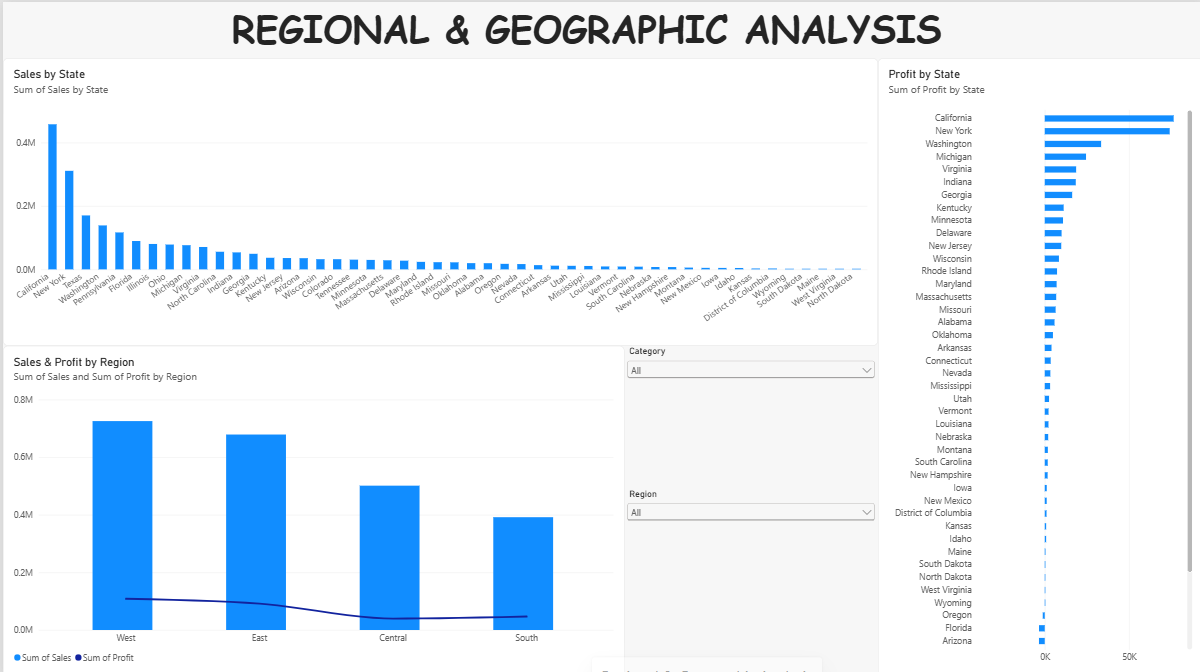

The dashboard page shown, as its layout file describes it:
{"tool":"powerbi","page":{"name":"Regional & Geographic Analysis","canvas":[1920,1080],"ordinal":3},"visuals":[{"type":"textbox","box":[9.3,0,1909.5,89.5],"z":0},{"type":"clusteredBarChart","title":"Profit by State","fields":{"Category":["cleaned_superstore.State"],"Y":["Sum(cleaned_superstore.Profit)"]},"box":[1400,90,520,990],"z":1000},{"type":"lineClusteredColumnComboChart","title":"Sales & Profit by Region","fields":{"Category":["cleaned_superstore.Region"],"Y":["Sum(cleaned_superstore.Sales)"],"Y2":["Sum(cleaned_superstore.Profit)"]},"box":[0,550,994,530],"z":2000},{"type":"clusteredColumnChart","title":"Sales by State","fields":{"Category":["cleaned_superstore.State"],"Y":["Sum(cleaned_superstore.Sales)"]},"box":[0,90,1400,460],"z":2001},{"type":"slicer","fields":{"Values":["cleaned_superstore.Region"]},"box":[994,778,406,302],"z":2002},{"type":"slicer","fields":{"Values":["cleaned_superstore.Category"]},"box":[994,550,406,266],"z":2003}]}

Visuals, with their boxes in screenshot pixels (x1, y1, x2, y2), scaled from the page's 1920x1080 canvas onto the 1200x672 screenshot:
textbox: [6,0,1199,56]
"Profit by State" clusteredBarChart: [875,56,1199,671]
"Sales & Profit by Region" lineClusteredColumnComboChart: [0,342,621,671]
"Sales by State" clusteredColumnChart: [0,56,875,342]
slicer - cleaned_superstore.Region: [621,484,875,671]
slicer - cleaned_superstore.Category: [621,342,875,508]
